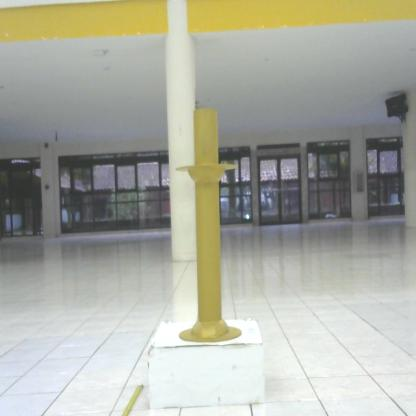pole: (174, 104, 248, 346)
